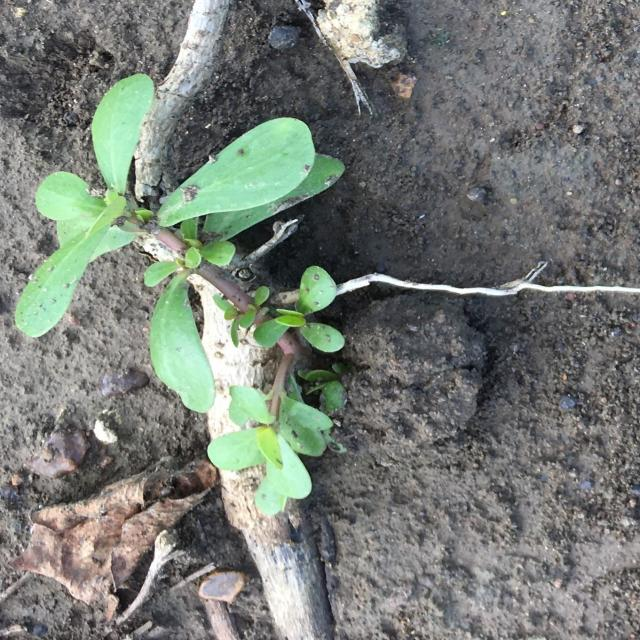Purslane: (14, 72, 346, 516)
